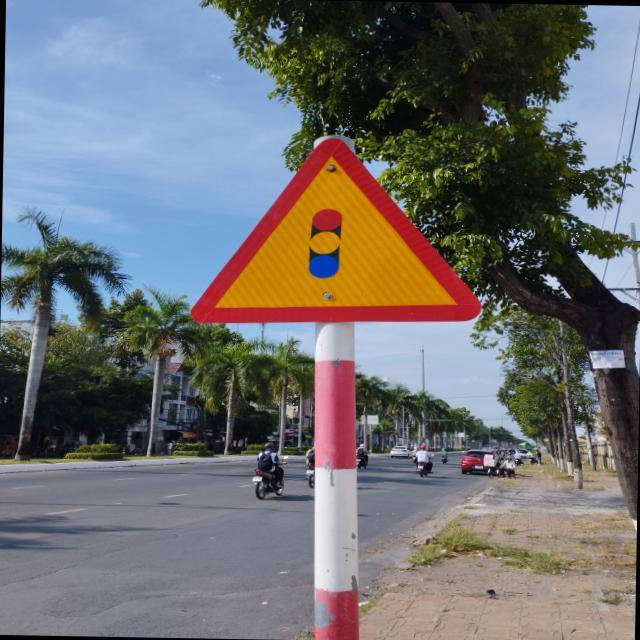Duong_Co_Go_Giam_Toc: (190, 135, 482, 330)
